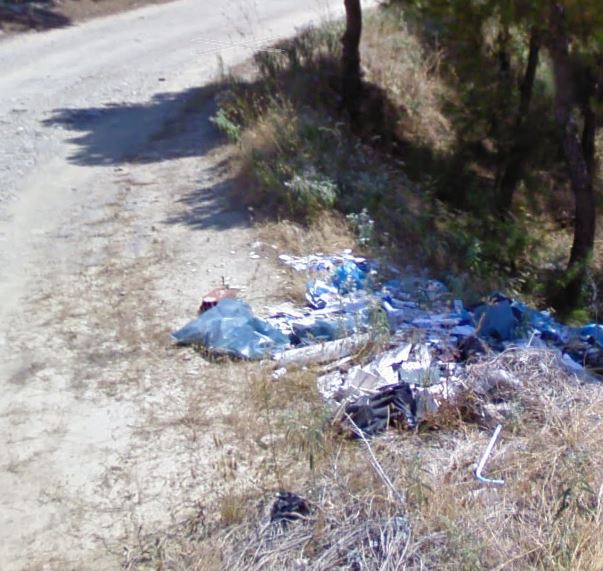trash: (171, 237, 603, 446), (250, 480, 322, 531)
